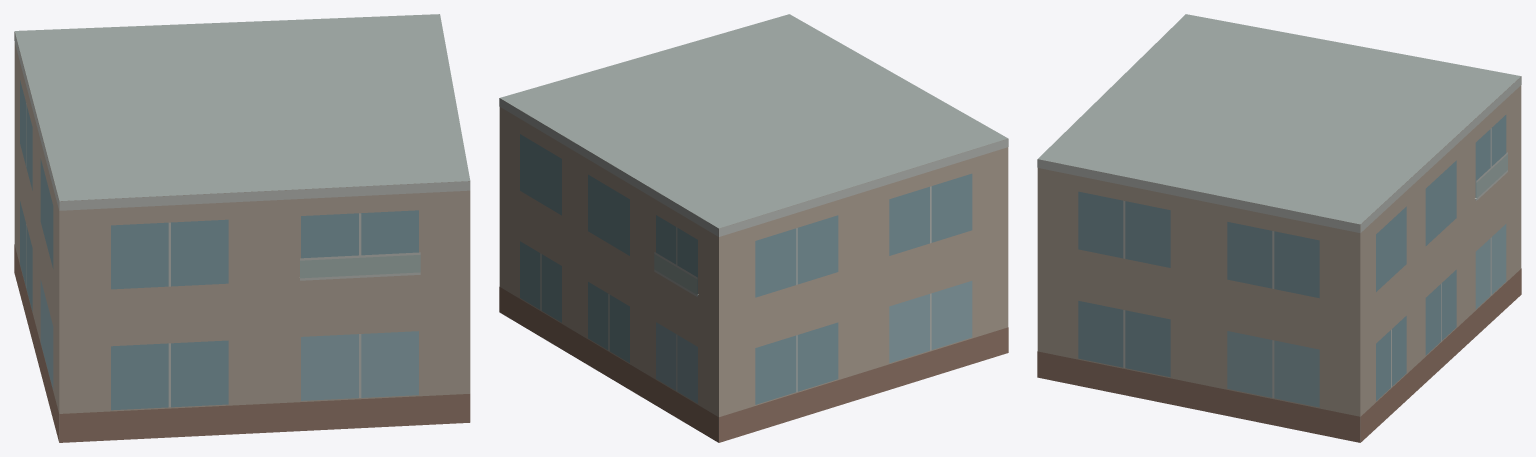
Rendered from survey-upis-32633020.glb.
3 views of the same model, side by side, from view 1: azimuth 30°, elevation 25°; view 2: azimuth 150°, elevation 25°; view 3: azimuth 270°, elevation 25° (orthographic). The views are drawn at different scales.
Visible parts, largest first — view 1: survey-upis-32633020.tmp; view 2: survey-upis-32633020.tmp; view 3: survey-upis-32633020.tmp.
Part boxes in pixels (<box>): survey-upis-32633020.tmp: <box>14,14,470,442</box>; survey-upis-32633020.tmp: <box>499,14,1008,442</box>; survey-upis-32633020.tmp: <box>1037,14,1521,442</box>.
Bounding box in the file's own units: 12.62 × 6.1 × 12.26.
